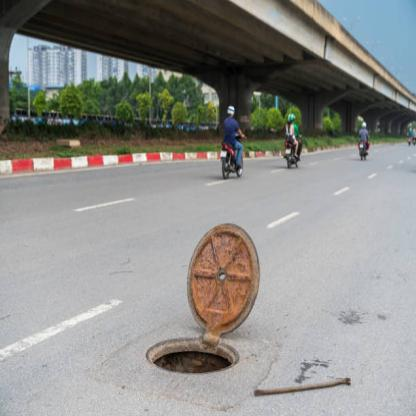open manhole-not overflowing-: (146, 224, 260, 376)
